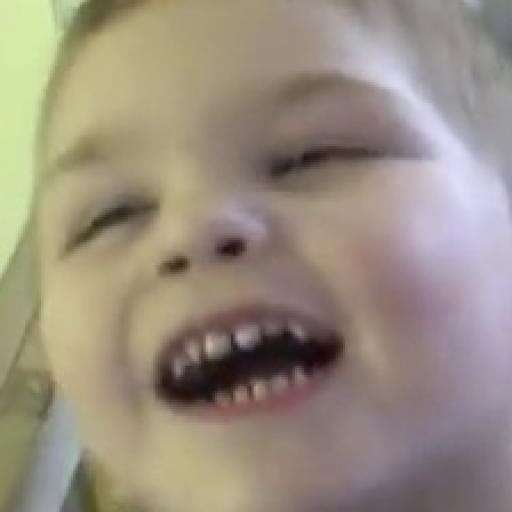Autism: (20, 13, 512, 512)
